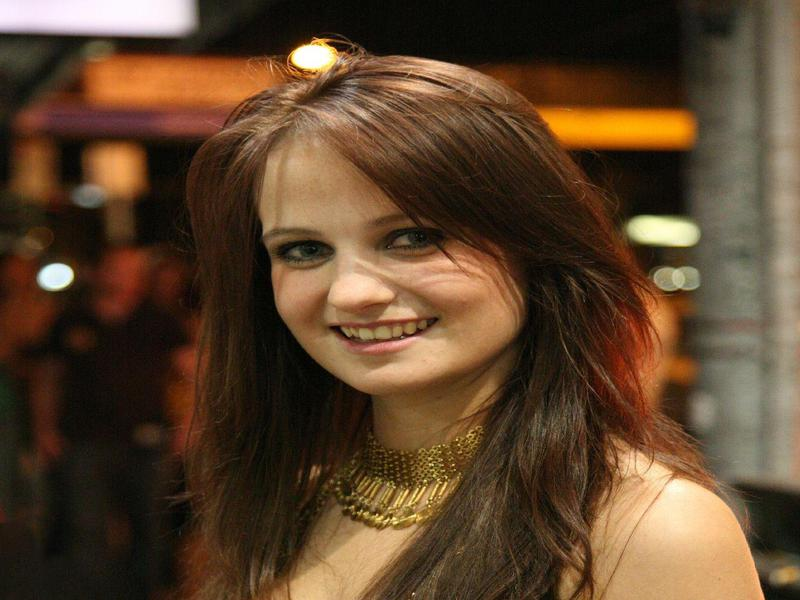person: (178, 32, 768, 600)
